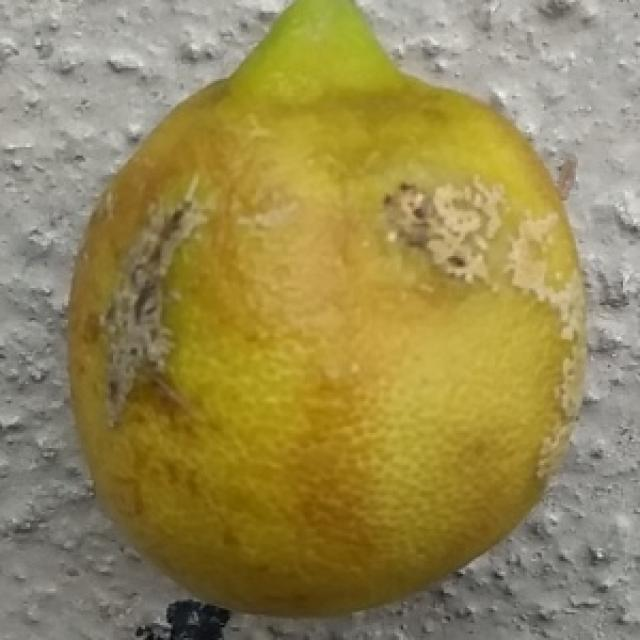overripe: (59, 0, 594, 624)
